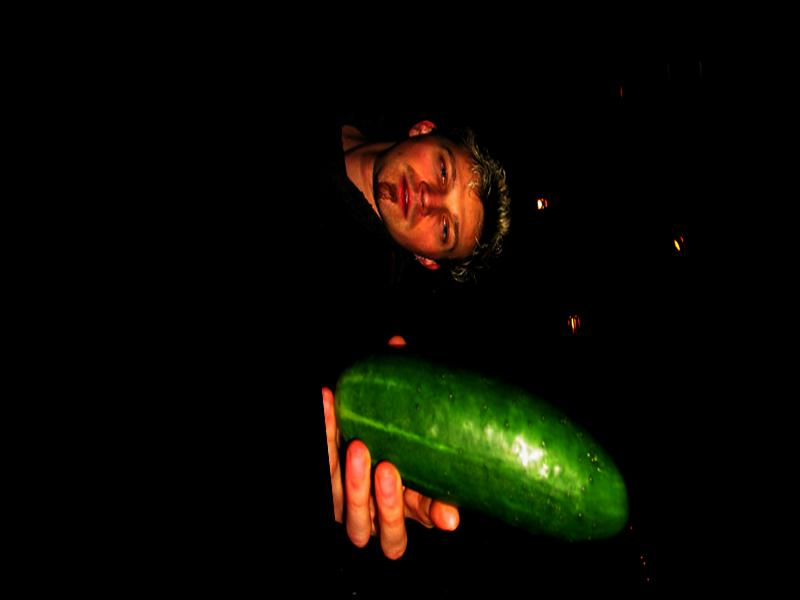Cucumber: (332, 333, 631, 566)
